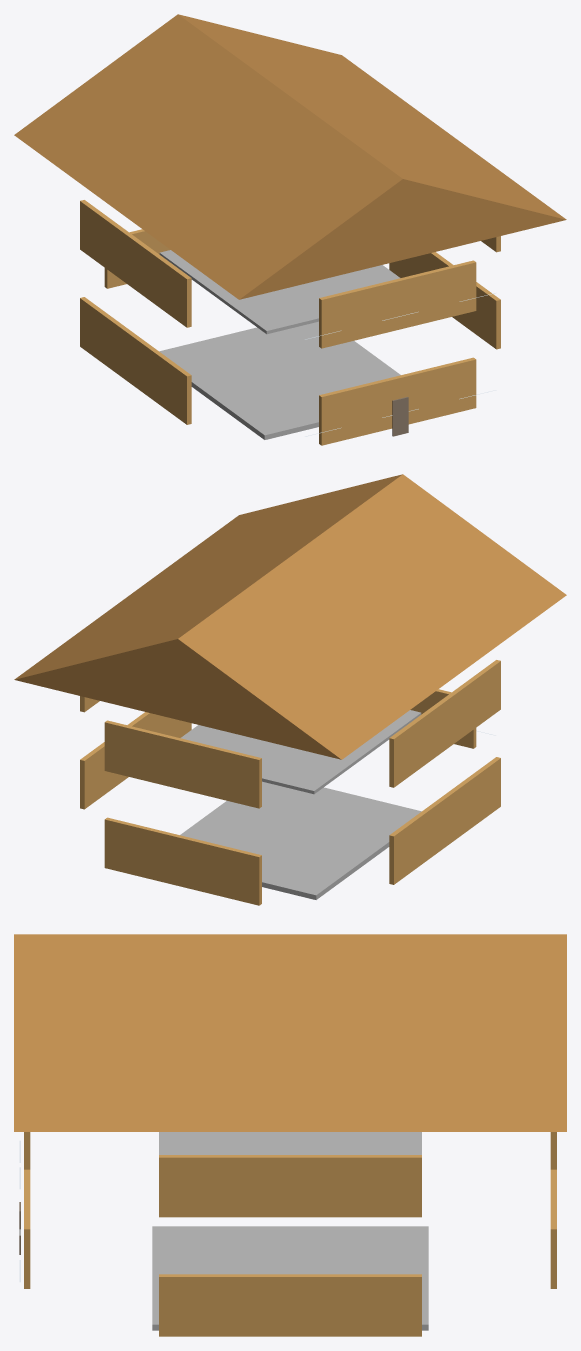
3 views of the same model, one above another, from view 1: azimuth 30°, elevation 25°; view 2: azimuth 150°, elevation 25°; view 3: azimuth 270°, elevation 25° (orthographic). The views are drawn at different scales.
Parts seen in each view (by area): view 1: Roof, Foundation, Wall_F_1, Wall_F_0, Wall_L_0, Wall_L_1, Slab_1, Wall_R_0, Wall_B_0, Door; view 2: Roof, Foundation, Wall_B_0, Wall_B_1, Wall_L_0, Wall_L_1, Slab_1, Wall_R_0, Wall_F_0; view 3: Roof, Wall_R_0, Wall_R_1, Foundation, Slab_1, Wall_F_0, Wall_B_0.
Boxes of the visible parts, left/top/right/bottom form: Roof: left=14, top=14, right=566, bottom=299; Foundation: left=159, top=321, right=400, bottom=439; Wall_F_1: left=319, top=260, right=476, bottom=348; Wall_F_0: left=319, top=357, right=476, bottom=445; Wall_L_0: left=80, top=297, right=191, bottom=424; Wall_L_1: left=80, top=200, right=191, bottom=327; Slab_1: left=159, top=250, right=400, bottom=334; Wall_R_0: left=389, top=252, right=500, bottom=349; Wall_B_0: left=104, top=229, right=170, bottom=288; Door: left=392, top=397, right=408, bottom=436; Roof: left=14, top=474, right=566, bottom=759; Foundation: left=180, top=781, right=421, bottom=899; Wall_B_0: left=104, top=817, right=261, bottom=905; Wall_B_1: left=104, top=720, right=261, bottom=808; Wall_L_0: left=389, top=757, right=500, bottom=884; Wall_L_1: left=389, top=660, right=500, bottom=787; Slab_1: left=180, top=710, right=421, bottom=794; Wall_R_0: left=80, top=712, right=191, bottom=809; Wall_F_0: left=410, top=689, right=476, bottom=748; Roof: left=14, top=934, right=566, bottom=1131; Wall_R_0: left=159, top=1274, right=421, bottom=1336; Wall_R_1: left=159, top=1155, right=421, bottom=1217; Foundation: left=152, top=1226, right=428, bottom=1330; Slab_1: left=159, top=1132, right=421, bottom=1154; Wall_F_0: left=24, top=1169, right=30, bottom=1288; Wall_B_0: left=550, top=1169, right=556, bottom=1288.
Size of what is drawn, in the model's own units: 10.6 by 8.73 by 12.6.
